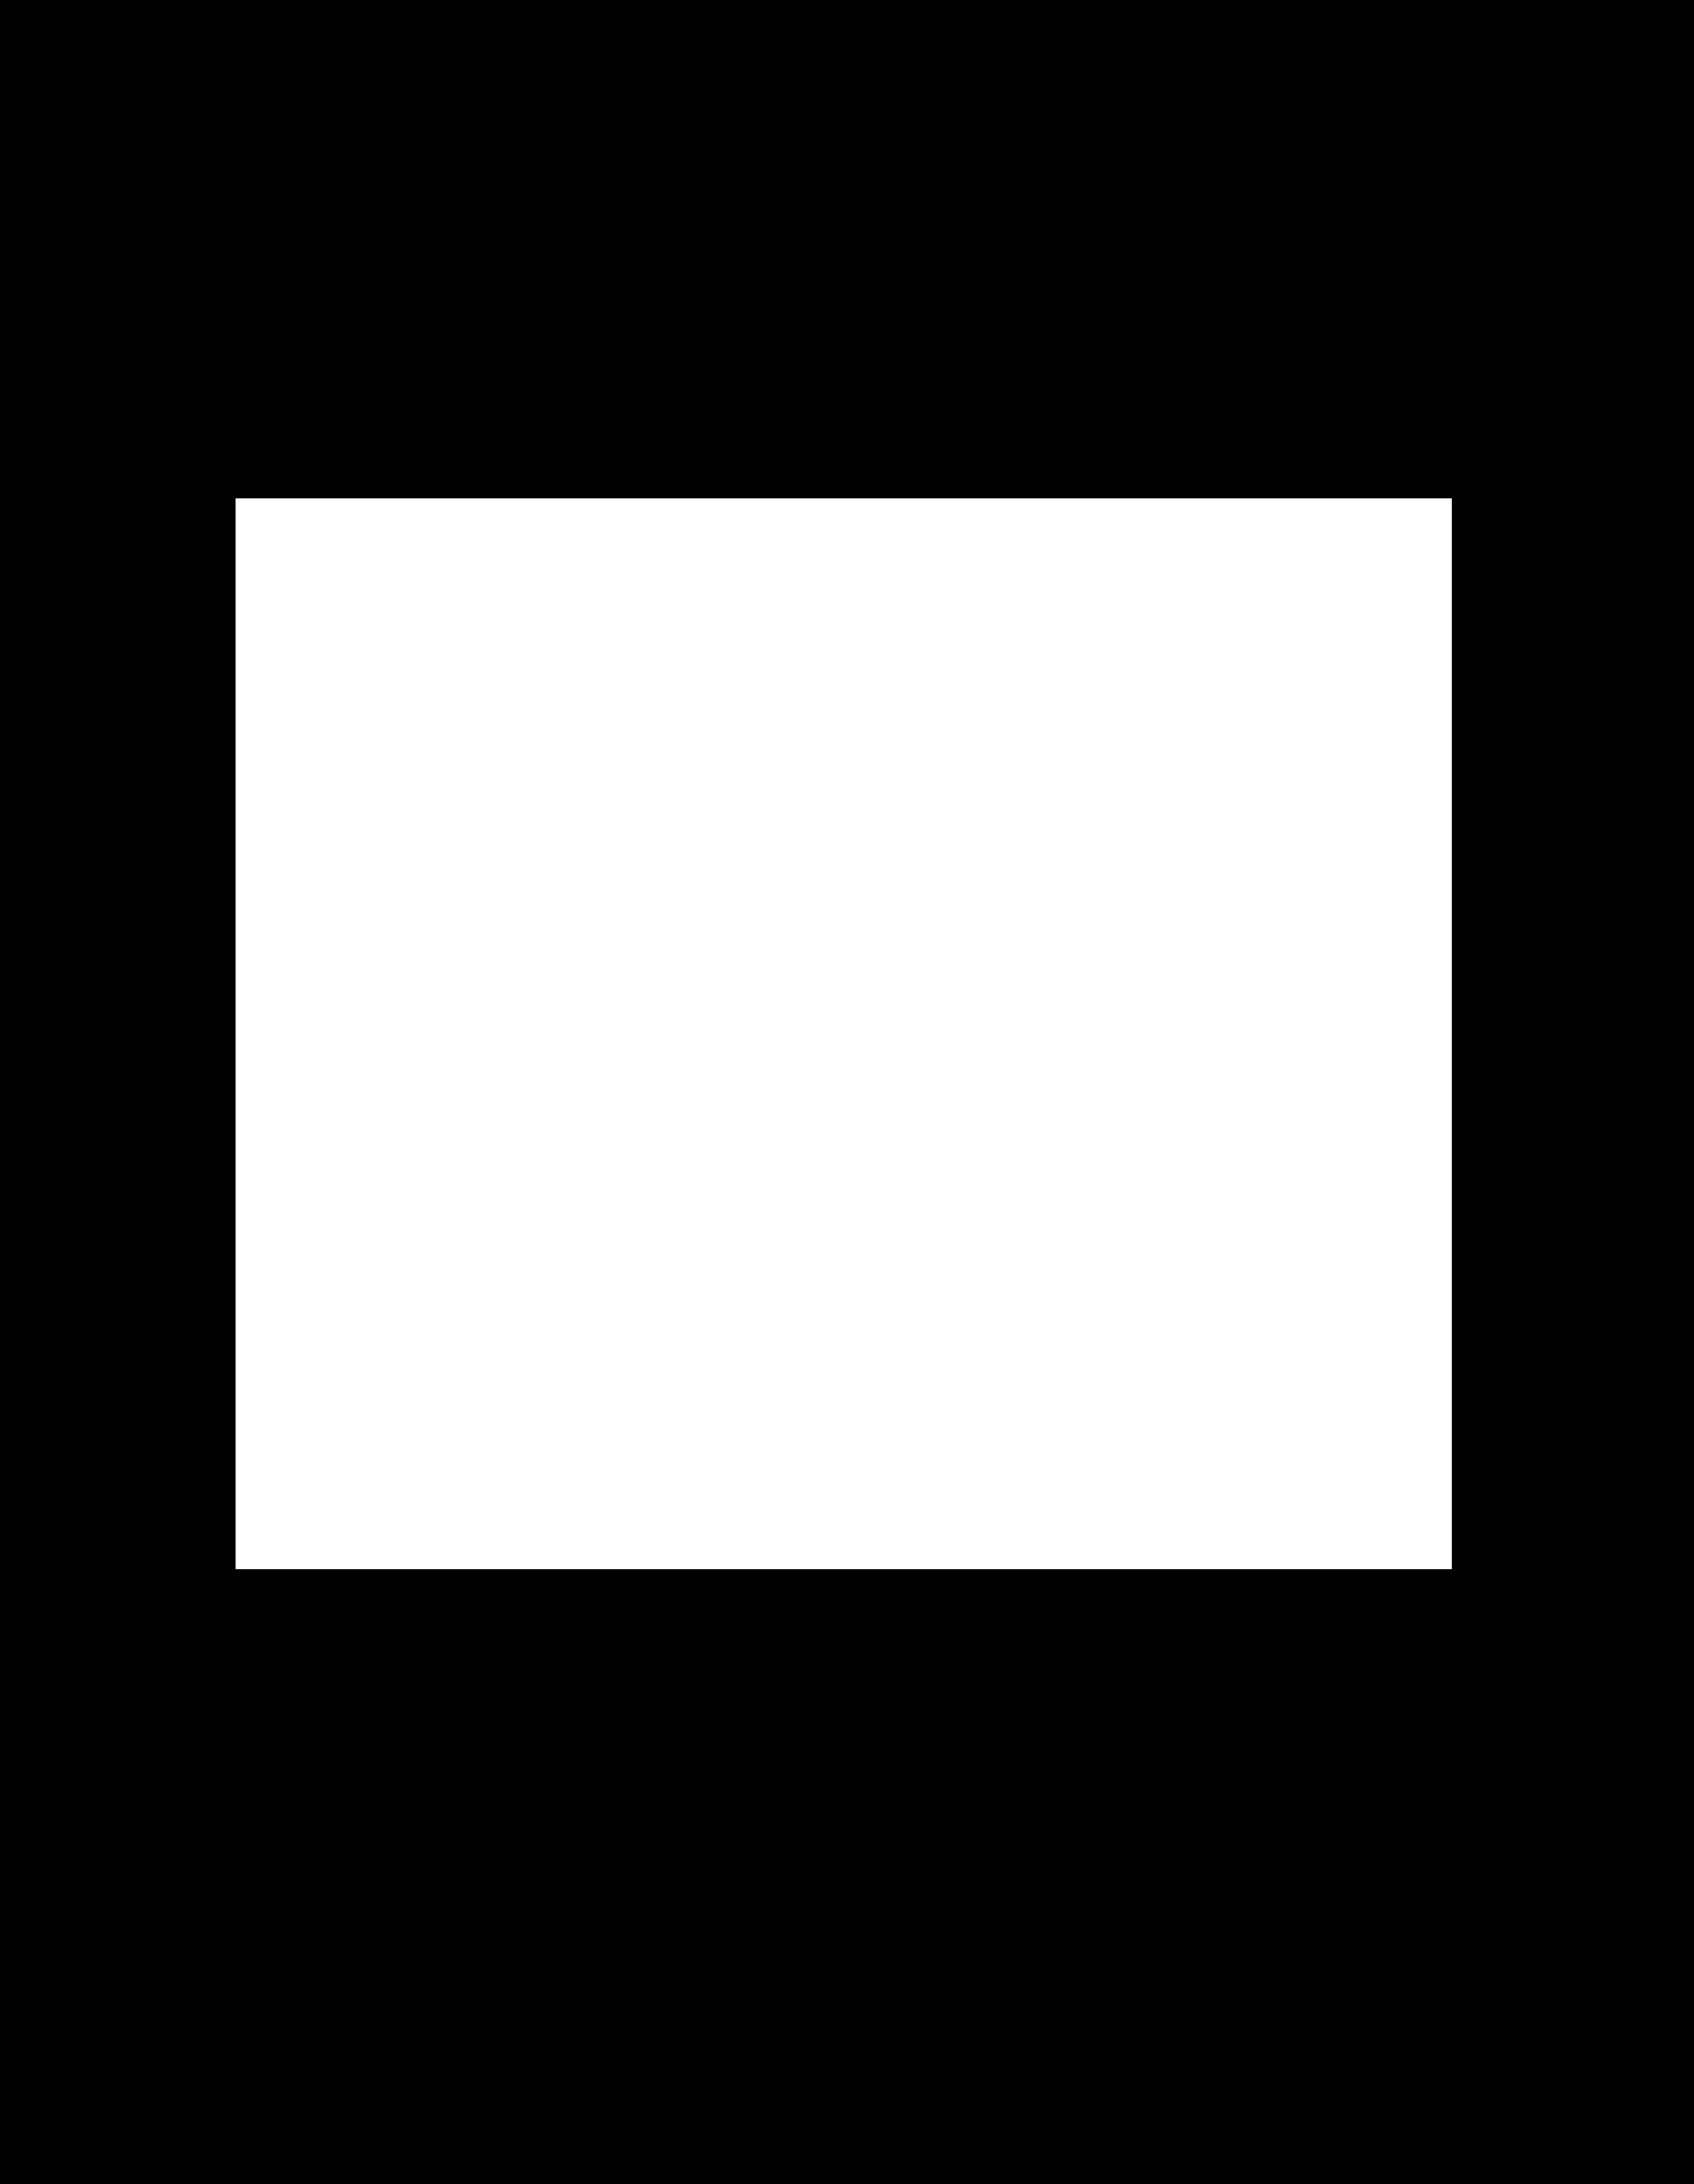table: (236, 498, 1451, 1569)
